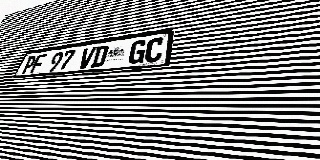plate: (13, 29, 175, 78)
